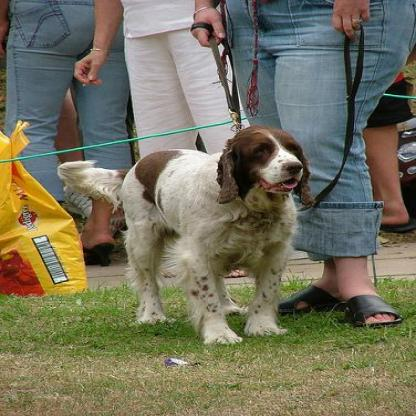English_springer: (55, 122, 316, 344)
